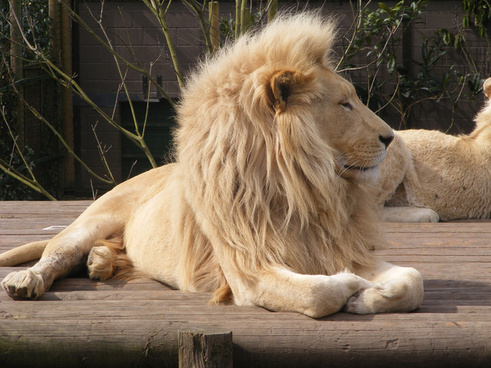lion: (211, 44, 394, 213)
